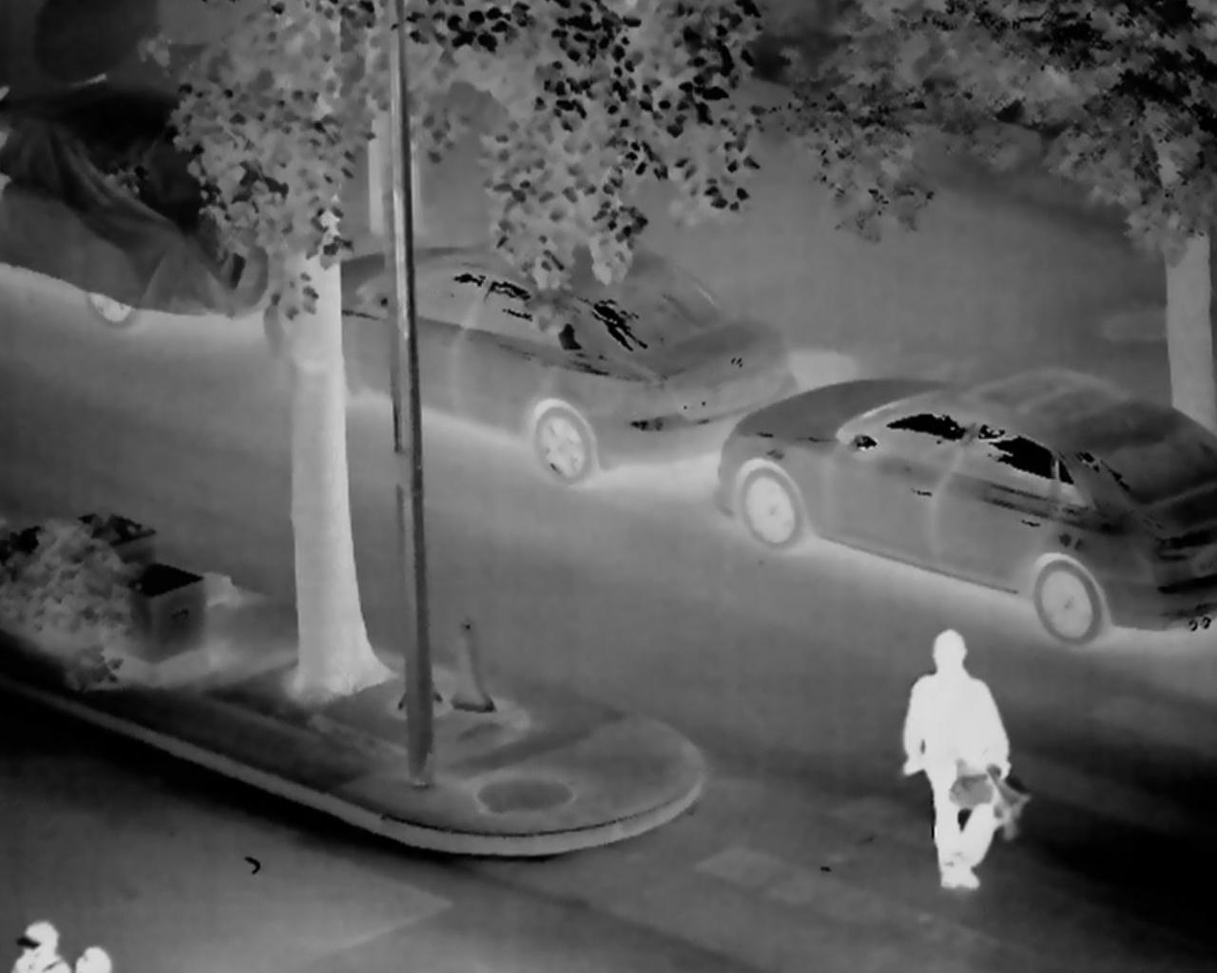person: (883, 613, 1018, 893), (9, 915, 74, 973), (72, 938, 107, 973)
